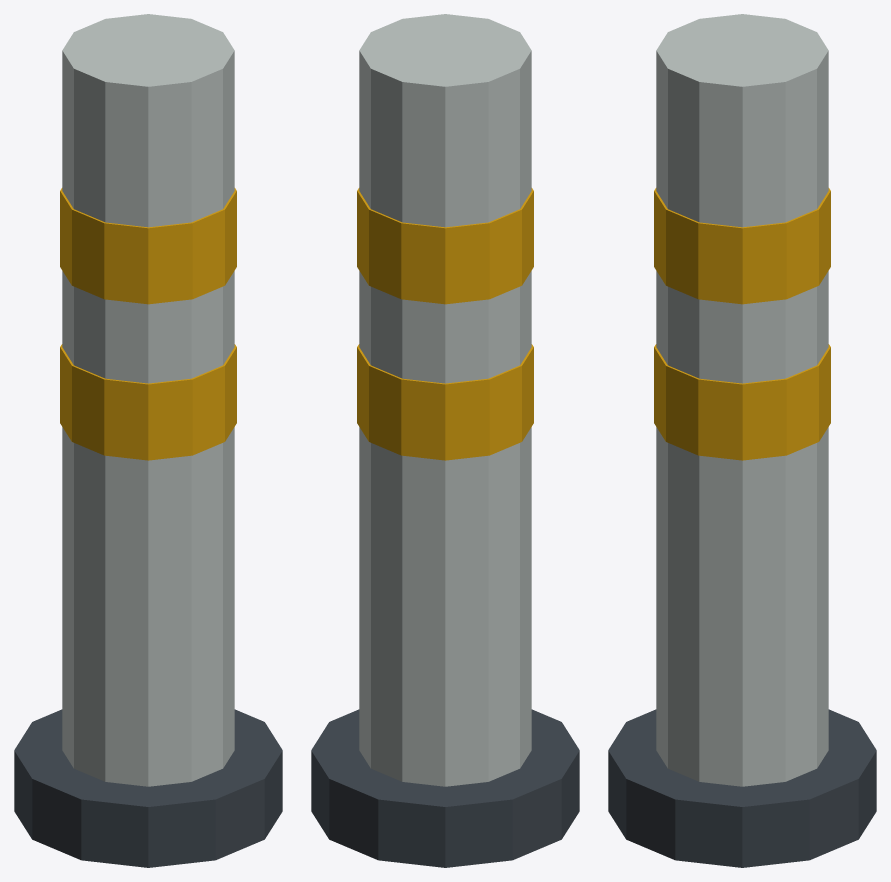
Rendered from BollardShort.fbx.
The picture shows the model from 3 angles, left to right: view 1: azimuth 30°, elevation 25°; view 2: azimuth 150°, elevation 25°; view 3: azimuth 270°, elevation 25°; orthographic projection.
Parts seen in each view (by area): view 1: BollardShort; view 2: BollardShort; view 3: BollardShort.
Boxes of the visible parts, left/top/right/bottom form: BollardShort: left=14, top=14, right=282, bottom=867; BollardShort: left=311, top=14, right=579, bottom=867; BollardShort: left=608, top=14, right=876, bottom=867.
Size of the model in its own units: 24 by 75 by 24.
Materials: 1 (1 with a texture image).
